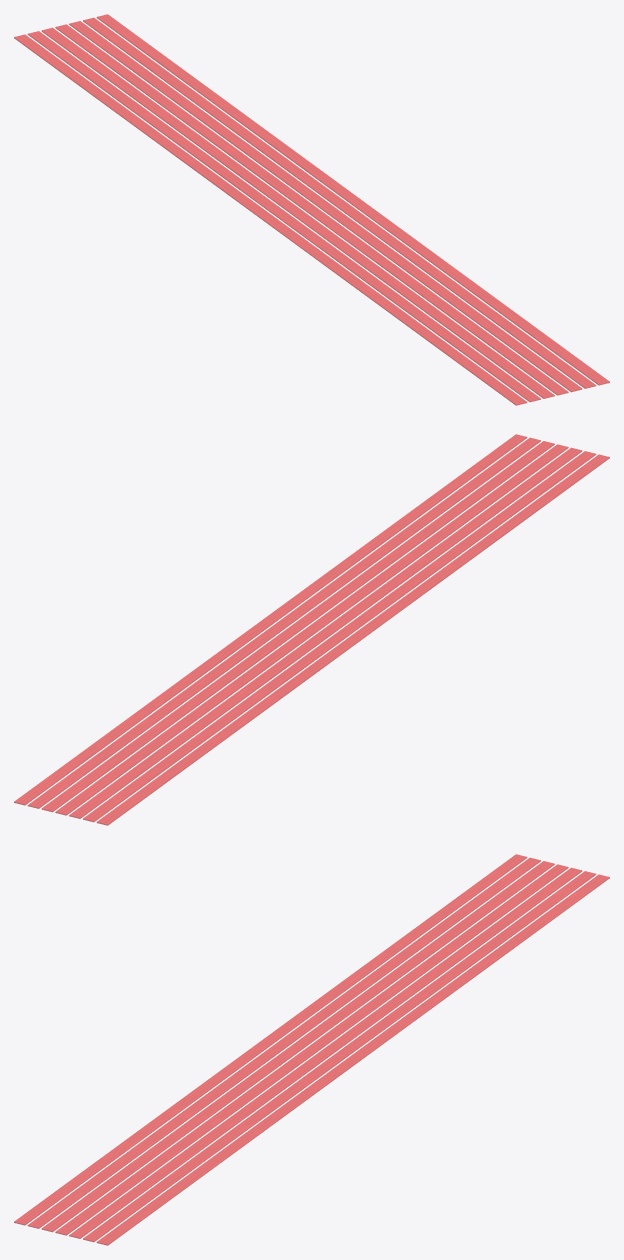
The model's file is yggdrasil-bifrost-ribbon-merged-2026-04-25T02-17-02-006Z.glb.
The picture shows the model from 3 angles, top to bottom: view 1: azimuth 30°, elevation 25°; view 2: azimuth 150°, elevation 25°; view 3: azimuth 330°, elevation 25°; orthographic projection.
Parts seen in each view (by area): view 1: Bifrost Ribbon 1, Bifrost Ribbon 2, Bifrost Ribbon 6, Bifrost Ribbon 7, Bifrost Ribbon 3, Bifrost Ribbon 4, Bifrost Ribbon 5; view 2: Bifrost Ribbon 1, Bifrost Ribbon 2, Bifrost Ribbon 6, Bifrost Ribbon 7, Bifrost Ribbon 3, Bifrost Ribbon 4, Bifrost Ribbon 5; view 3: Bifrost Ribbon 1, Bifrost Ribbon 2, Bifrost Ribbon 6, Bifrost Ribbon 7, Bifrost Ribbon 3, Bifrost Ribbon 4, Bifrost Ribbon 5.
Boxes of the visible parts, <box> form: Bifrost Ribbon 1: <box>14,34,527,405</box>; Bifrost Ribbon 2: <box>27,31,540,402</box>; Bifrost Ribbon 6: <box>83,17,596,388</box>; Bifrost Ribbon 7: <box>96,14,609,385</box>; Bifrost Ribbon 3: <box>42,27,554,398</box>; Bifrost Ribbon 4: <box>55,24,568,395</box>; Bifrost Ribbon 5: <box>69,21,581,392</box>; Bifrost Ribbon 1: <box>96,454,609,825</box>; Bifrost Ribbon 2: <box>83,451,596,822</box>; Bifrost Ribbon 6: <box>27,437,540,808</box>; Bifrost Ribbon 7: <box>14,434,527,805</box>; Bifrost Ribbon 3: <box>69,447,581,818</box>; Bifrost Ribbon 4: <box>55,444,568,815</box>; Bifrost Ribbon 5: <box>42,441,554,812</box>; Bifrost Ribbon 1: <box>14,854,527,1225</box>; Bifrost Ribbon 2: <box>27,857,540,1228</box>; Bifrost Ribbon 6: <box>83,871,596,1242</box>; Bifrost Ribbon 7: <box>96,874,609,1245</box>; Bifrost Ribbon 3: <box>42,861,554,1232</box>; Bifrost Ribbon 4: <box>55,864,568,1235</box>; Bifrost Ribbon 5: <box>69,867,581,1238</box>.
Bounding box in the file's own units: 8.85 × 0.1 × 82.
Materials: 1 (1 with a texture image).
